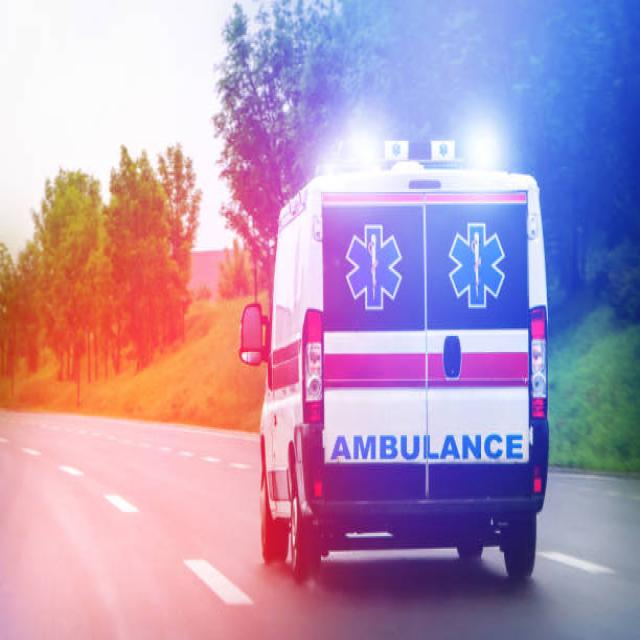emergency lights: (325, 109, 532, 209)
